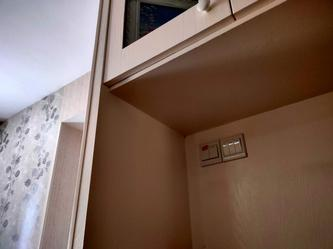switch: (235, 137, 243, 154), (197, 144, 207, 157), (228, 140, 236, 155), (210, 143, 217, 158), (221, 142, 228, 156)
